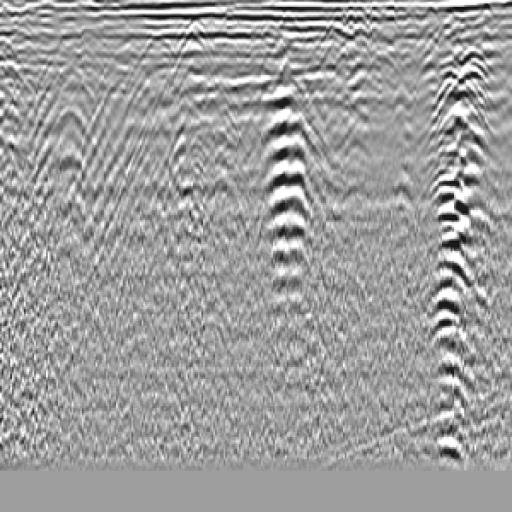metalic: (316, 33, 417, 248)
